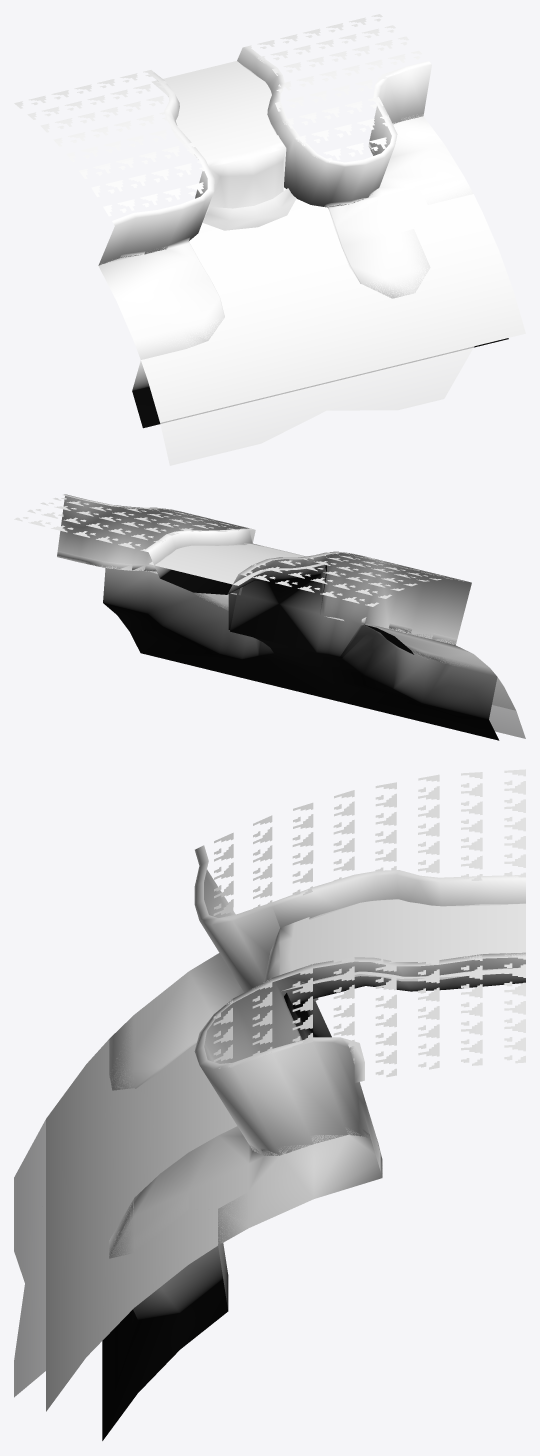
Rendered from grd_Mse_s_R_2.dae.
3 views of the same model, one above another, from view 1: azimuth 30°, elevation 25°; view 2: azimuth 150°, elevation 25°; view 3: azimuth 270°, elevation 25° (orthographic). The views are drawn at different scales.
Parts seen in each view (by area): view 1: grd_Mse_s_R_2; view 2: grd_Mse_s_R_2; view 3: grd_Mse_s_R_2.
Boxes of the visible parts, <box> form: grd_Mse_s_R_2: <box>14,14,525,465</box>; grd_Mse_s_R_2: <box>14,494,525,740</box>; grd_Mse_s_R_2: <box>14,769,525,1440</box>.
Size of the model in its own units: 512 by 332 by 378.
Materials: 10 (1 with a texture image).
